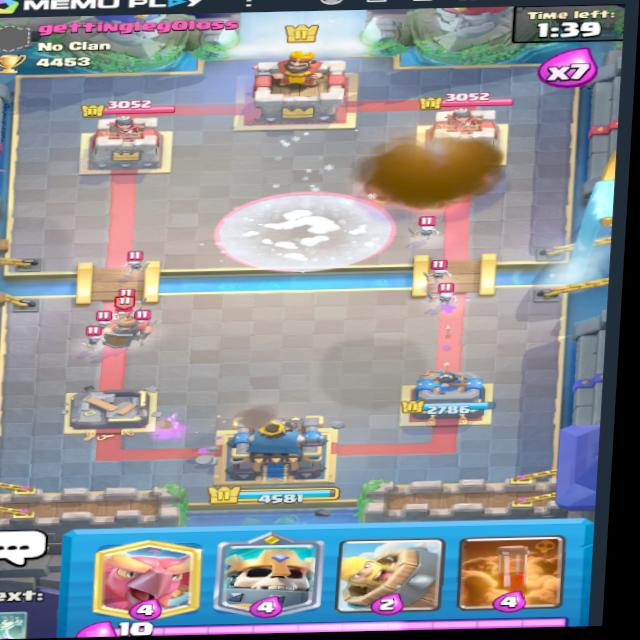Freeze: (214, 191, 397, 270)
Royalrecruits: (105, 307, 160, 347)
Skeleton: (420, 280, 464, 311), (75, 329, 106, 349), (423, 265, 453, 283), (125, 250, 149, 271), (417, 222, 442, 241)
